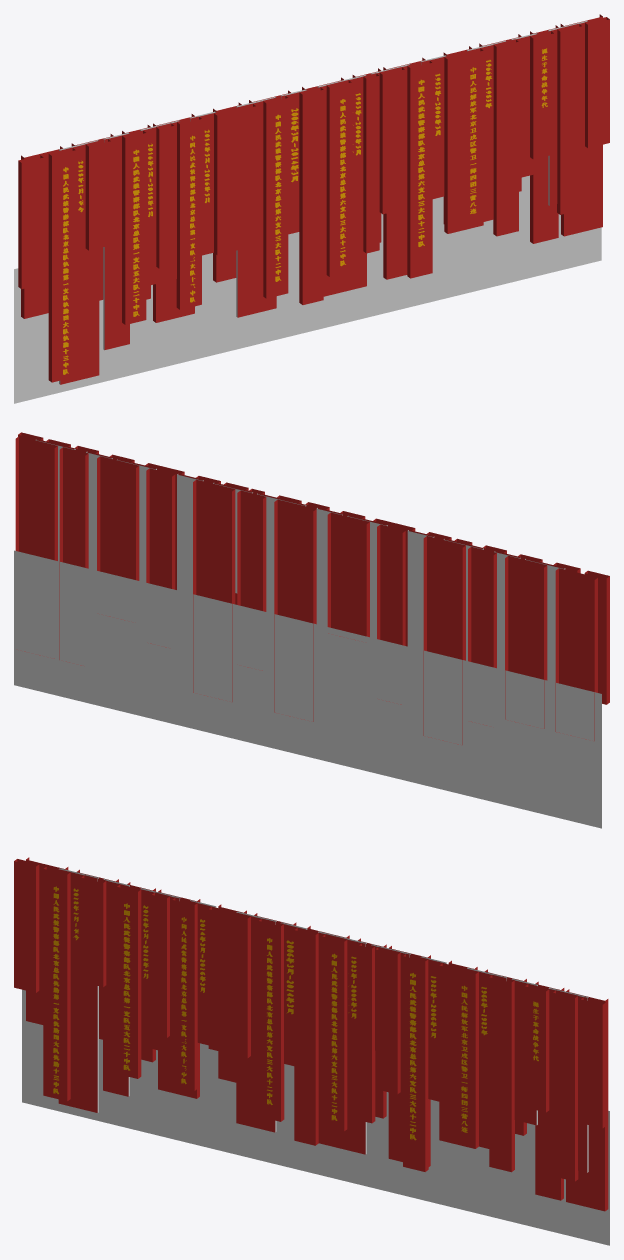
The model's file is 历史沿革.fbx.
The picture shows the model from 3 angles, top to bottom: view 1: azimuth 30°, elevation 25°; view 2: azimuth 150°, elevation 25°; view 3: azimuth 330°, elevation 25°; orthographic projection.
Parts seen in each view (by area): view 1: 历史沿革.001, zi; view 2: 历史沿革.001; view 3: 历史沿革.001, zi.
Part boxes in pixels (x1,y1,x2,y2): 历史沿革.001: [14, 14, 609, 403]; zi: [63, 48, 547, 374]; 历史沿革.001: [14, 432, 609, 828]; 历史沿革.001: [14, 857, 609, 1245]; zi: [53, 886, 538, 1140].
Bounding box in the file's own units: 11.15 × 4.47 × 0.3089.
